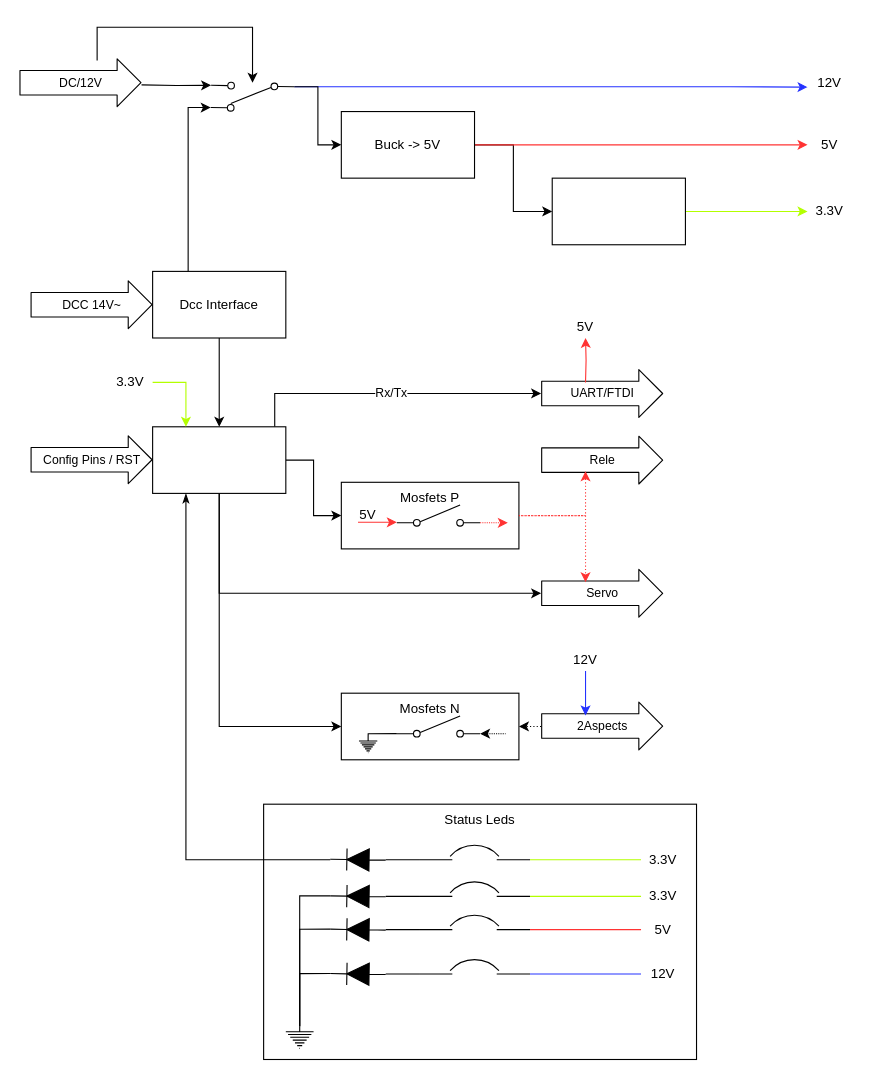
The diagram is 870 pixels wide and 1079 high, and some of its shapes have lost their labels. The shapes that lost their labels are listed below. From the top down, each one's box as (x1, y1, x2, y2) in pixels, then its label:
(551, 177, 685, 245): LDO 3.3V
(152, 426, 286, 493): Micro
